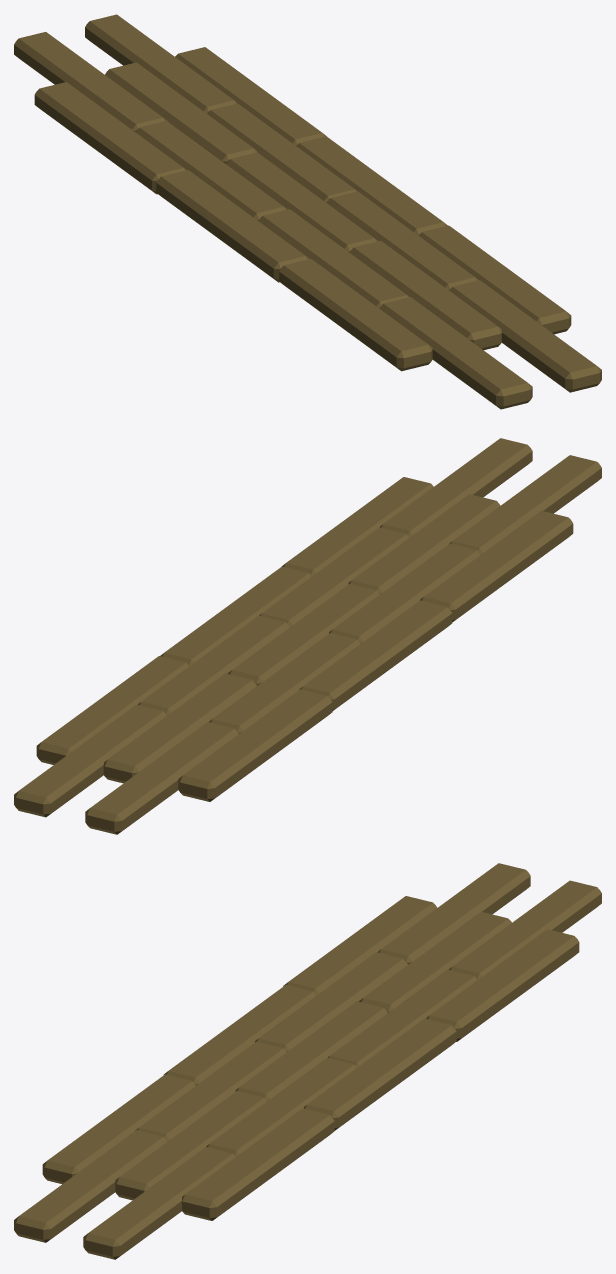
File: Floor.fbx
3 renders of one model, top to bottom at view 1: azimuth 30°, elevation 25°; view 2: azimuth 150°, elevation 25°; view 3: azimuth 330°, elevation 25°, orthographic.
Parts seen in each view (by area): view 1: pasted__group47_pasted__pasted__pCube2; view 2: pasted__group47_pasted__pasted__pCube2; view 3: pasted__group47_pasted__pasted__pCube2.
Part boxes in pixels (bbox=[...]): pasted__group47_pasted__pasted__pCube2: bbox=[14, 14, 601, 409]; pasted__group47_pasted__pasted__pCube2: bbox=[14, 438, 601, 834]; pasted__group47_pasted__pasted__pCube2: bbox=[14, 863, 601, 1259].
Size of the model in its own units: 9.2 by 1 by 43.82.
